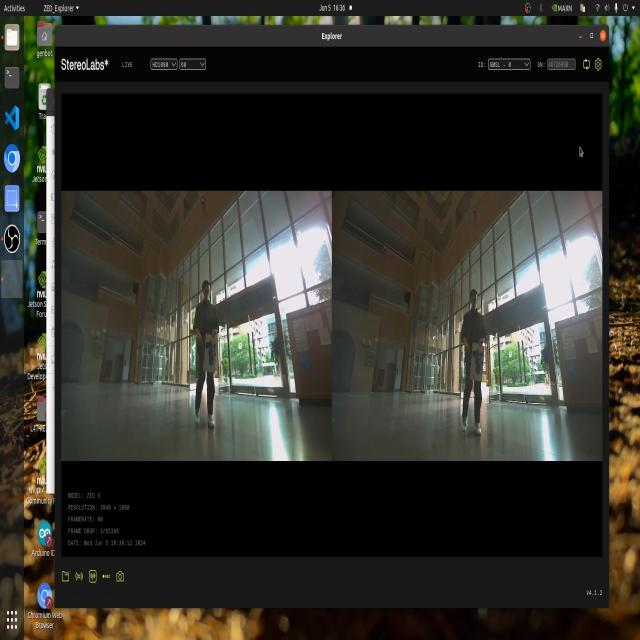blue: (468, 348, 488, 383), (202, 335, 215, 370)
